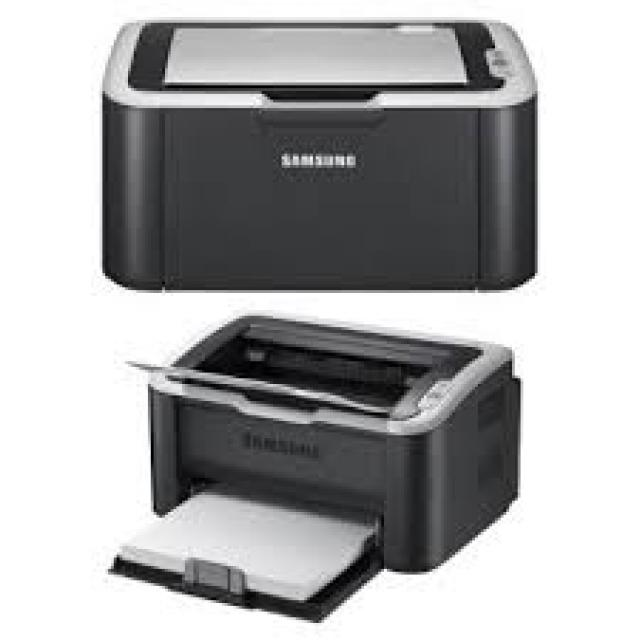printer: (92, 301, 536, 629), (90, 7, 548, 304)
